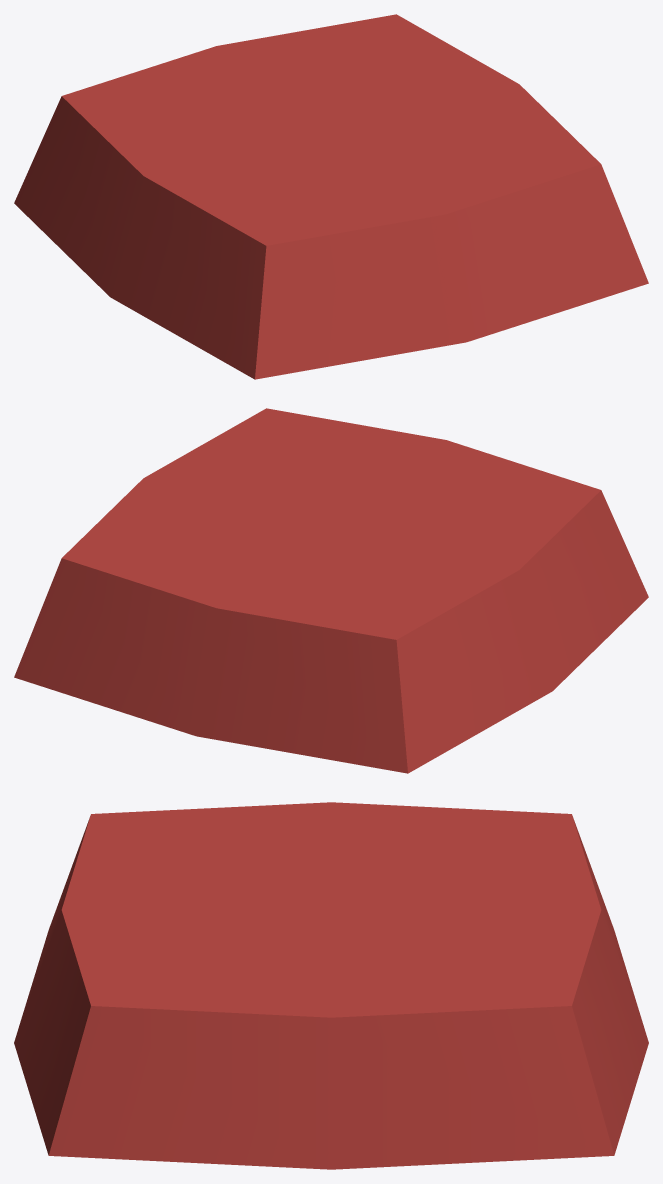
Rendered from trunk_lid_lod2.glb.
3 views of the same model, one above another, from view 1: azimuth 30°, elevation 25°; view 2: azimuth 150°, elevation 25°; view 3: azimuth 270°, elevation 25° (orthographic). The views are drawn at different scales.
Visible parts, largest first — view 1: trunk_lid_lod2; view 2: trunk_lid_lod2; view 3: trunk_lid_lod2.
Part boxes in pixels (<box>): trunk_lid_lod2: <box>14,14,648,379</box>; trunk_lid_lod2: <box>14,408,648,773</box>; trunk_lid_lod2: <box>14,802,648,1169</box>.
Size of the model in its own units: 0.34 by 0.0832 by 0.36.
